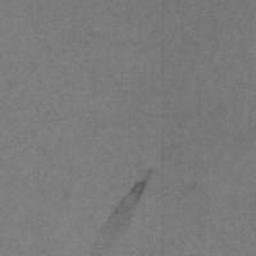Inclusion: (88, 168, 155, 256)
